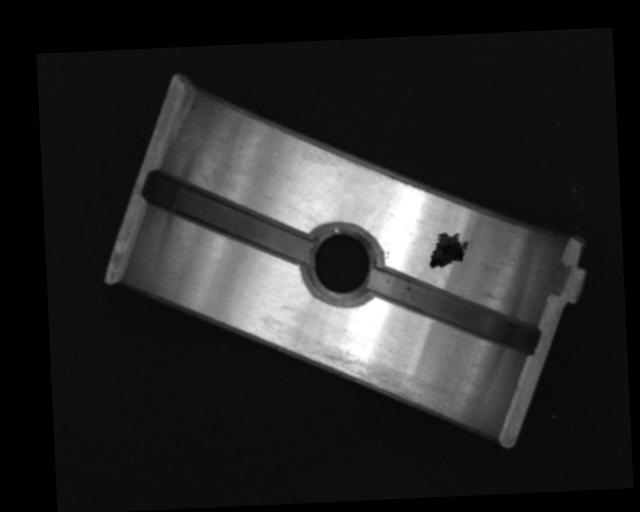blot: (427, 230, 472, 271)
gap: (144, 165, 312, 270), (369, 264, 539, 362)
hole: (300, 222, 382, 309)
scratch: (298, 342, 459, 424)
